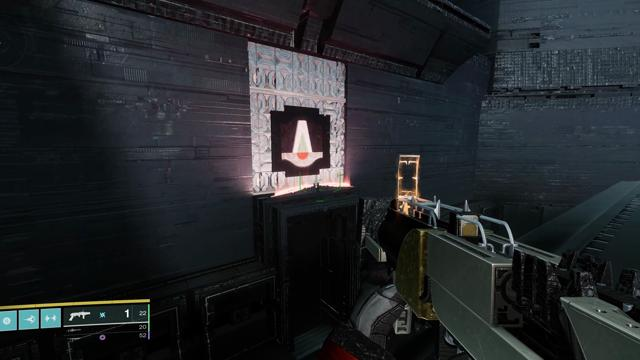enter: (282, 117, 323, 167)
